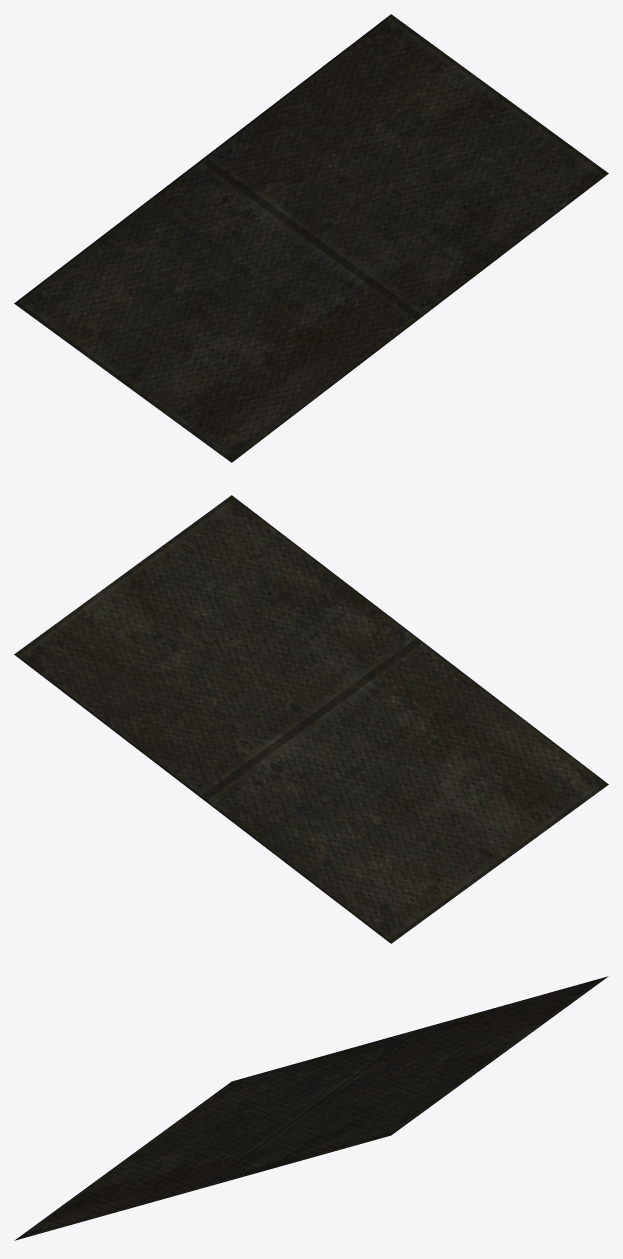
File: platform_2.glb
3 renders of one model, top to bottom at view 1: azimuth 30°, elevation 25°; view 2: azimuth 150°, elevation 25°; view 3: azimuth 330°, elevation 25°, orthographic.
Visible parts, largest first — view 1: platform_2; view 2: platform_2; view 3: platform_2.
Part boxes in pixels (x1,y1,x2,y2): platform_2: [14, 14, 608, 462]; platform_2: [14, 495, 608, 943]; platform_2: [14, 976, 608, 1240].
Bounding box in the file's own units: 2 × 1.02 × 2.
Materials: 2 (2 with a texture image).
